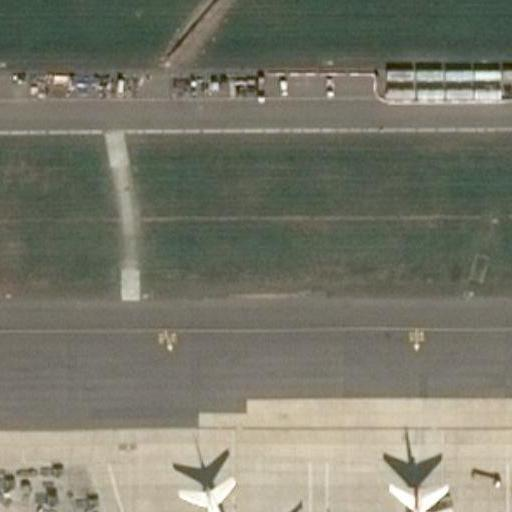Aircraft: (324, 467, 505, 512), (130, 468, 309, 512)
